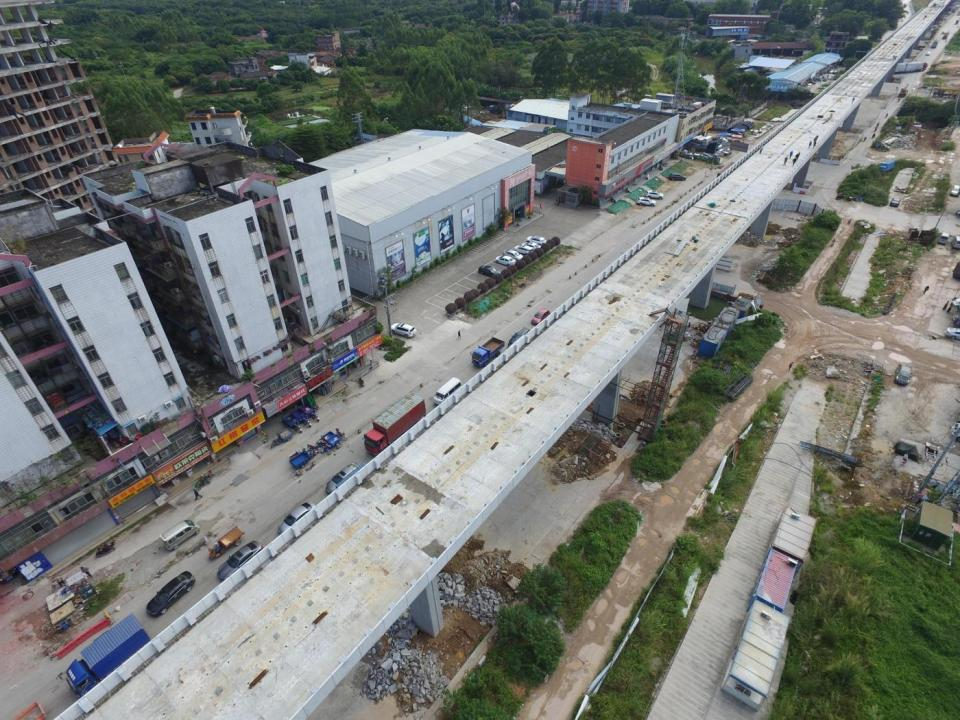car: (146, 570, 196, 618), (0, 546, 16, 582), (508, 327, 530, 351), (390, 322, 417, 338), (895, 364, 913, 386), (478, 264, 502, 280), (531, 308, 550, 326), (503, 250, 524, 262), (494, 256, 516, 267), (644, 189, 666, 200), (514, 245, 534, 256), (945, 326, 960, 340), (637, 197, 657, 207), (526, 236, 546, 245), (521, 242, 542, 250), (668, 172, 686, 180), (889, 197, 901, 208), (949, 185, 960, 196), (926, 51, 932, 55)
truck: (64, 612, 150, 698), (365, 393, 426, 456), (470, 338, 504, 368), (879, 61, 929, 74), (881, 159, 894, 172), (932, 39, 939, 47)
van: (160, 520, 202, 555), (434, 376, 462, 406), (938, 232, 949, 245), (951, 235, 960, 248)
